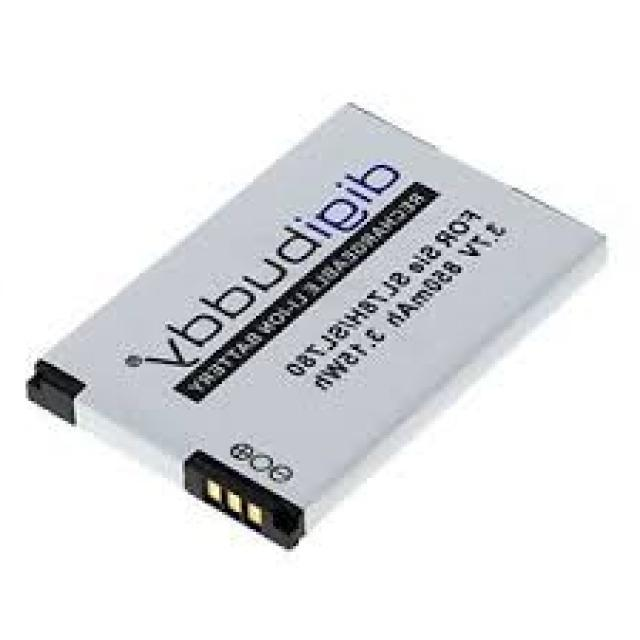battery: (26, 102, 608, 550)
